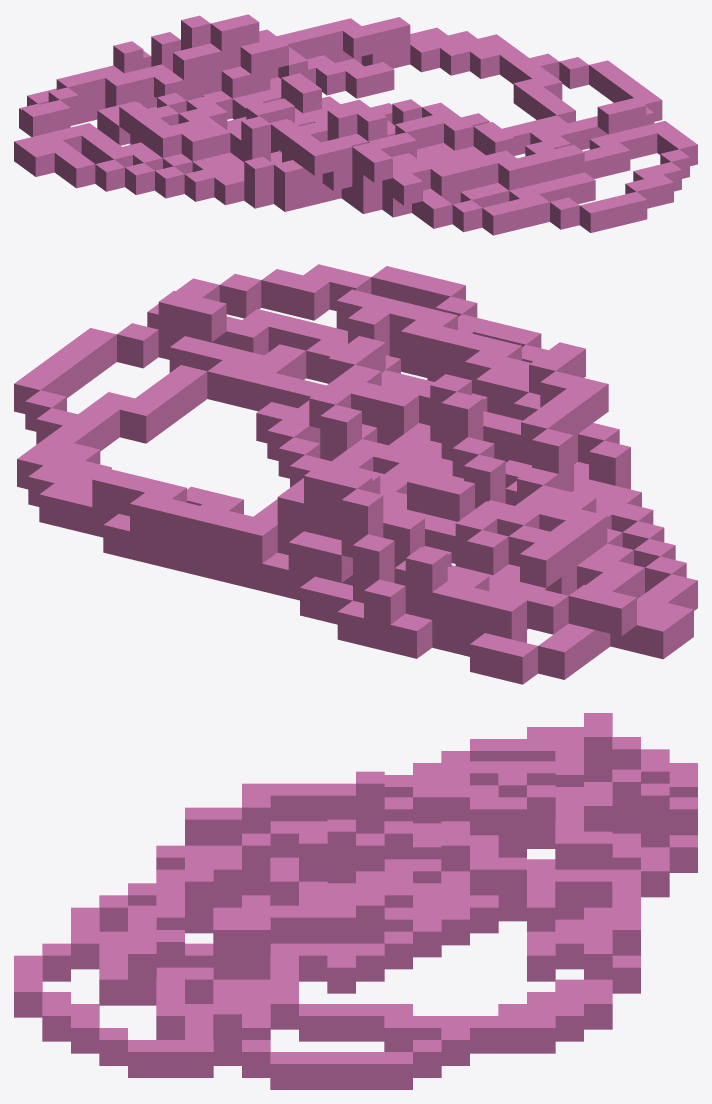
File: placeholder.gltf
3 renders of one model, top to bottom at view 1: azimuth 30°, elevation 25°; view 2: azimuth 150°, elevation 25°; view 3: azimuth 270°, elevation 25°, orthographic. The views are drawn at different scales.
Parts seen in each view (by area): view 1: Layer.1; view 2: Layer.1; view 3: Layer.1.
Boxes of the visible parts, x1,y1,x2,y2 form: Layer.1: (14,14,697,235); Layer.1: (14,264,697,684); Layer.1: (14,713,697,1089).
Size of the model in its own units: 28 by 4 by 24.
1 material, 1 textured.
